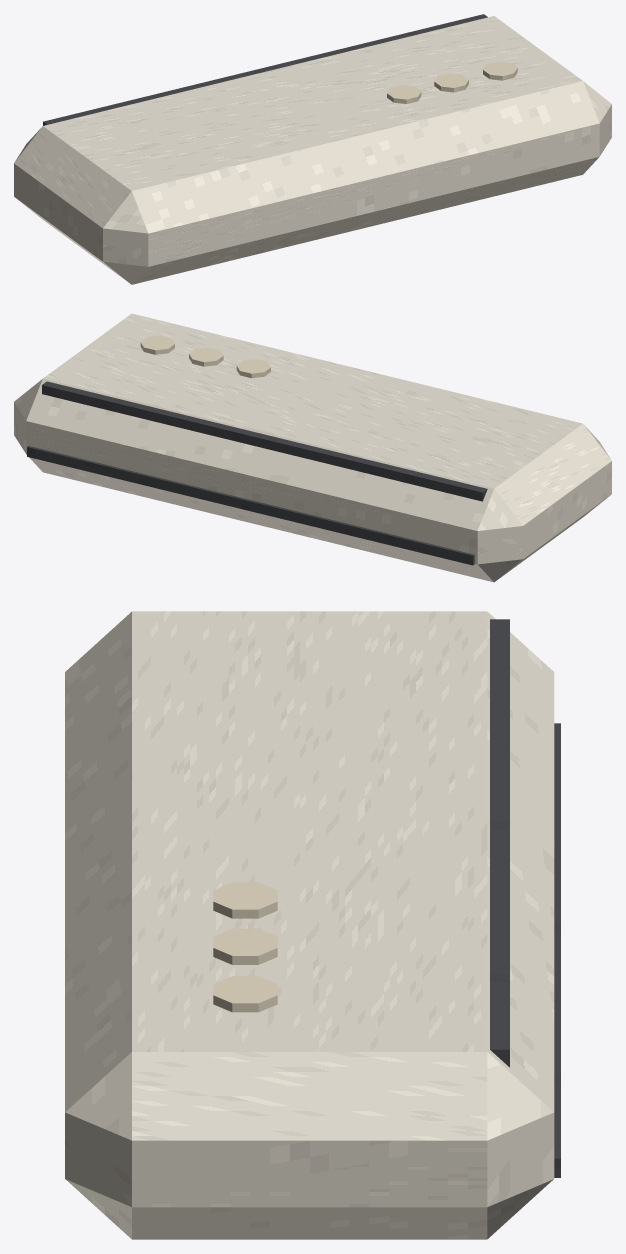
The model's file is vac_sealer.glb.
The picture shows the model from 3 angles, top to bottom: view 1: azimuth 30°, elevation 25°; view 2: azimuth 150°, elevation 25°; view 3: azimuth 270°, elevation 25°; orthographic projection. The views are drawn at different scales.
Parts seen in each view (by area): view 1: block_vacuum sealer shell, block_seal bar, block_membrane key (×3); view 2: block_vacuum sealer shell, block_seal bar, block_front latch seam, block_membrane key (×3); view 3: block_vacuum sealer shell, block_seal bar, block_membrane key (×3), block_front latch seam.
Part boxes in pixels (box(x1,y1,x2,y2)): block_vacuum sealer shell: box(14, 16, 611, 284); block_seal bar: box(43, 14, 487, 125); block_membrane key (×3): box(387, 61, 517, 103); block_vacuum sealer shell: box(14, 313, 611, 582); block_seal bar: box(42, 381, 487, 501); block_front latch seam: box(27, 446, 474, 565); block_membrane key (×3): box(140, 335, 270, 378); block_vacuum sealer shell: box(65, 611, 554, 1239); block_seal bar: box(490, 619, 509, 1067); block_membrane key (×3): box(213, 882, 277, 1012); block_front latch seam: box(554, 723, 560, 1177).
Bounding box in the file's own units: 0.35 × 0.0646 × 0.1476.
1 material, 1 textured.
